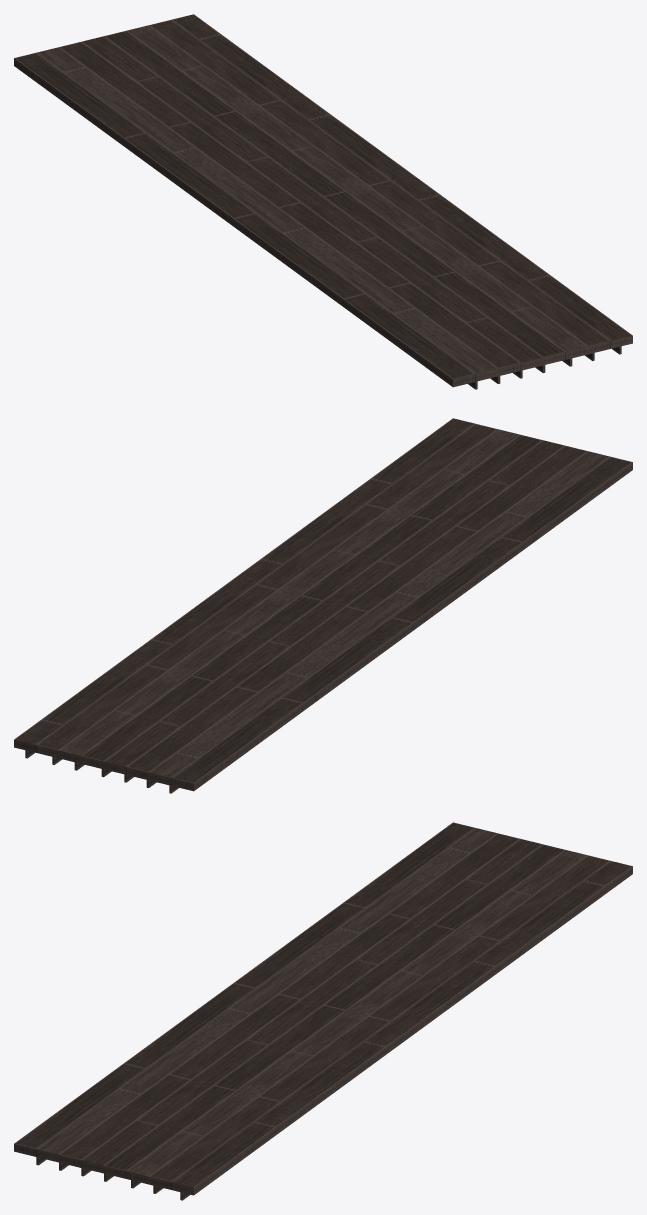
Rendered from 8-2_Floor.fbx.
3 views of the same model, one above another, from view 1: azimuth 30°, elevation 25°; view 2: azimuth 150°, elevation 25°; view 3: azimuth 330°, elevation 25° (orthographic).
Parts seen in each view (by area): view 1: _Combined Mesh [8-2_Floor]; view 2: _Combined Mesh [8-2_Floor]; view 3: _Combined Mesh [8-2_Floor].
Part boxes in pixels (box(x1,y1,x2,y2)): _Combined Mesh [8-2_Floor]: box(14, 14, 632, 389); _Combined Mesh [8-2_Floor]: box(14, 418, 632, 793); _Combined Mesh [8-2_Floor]: box(14, 822, 632, 1200).
Size of the model in its own units: 1.2 by 0.1 by 5.07.
